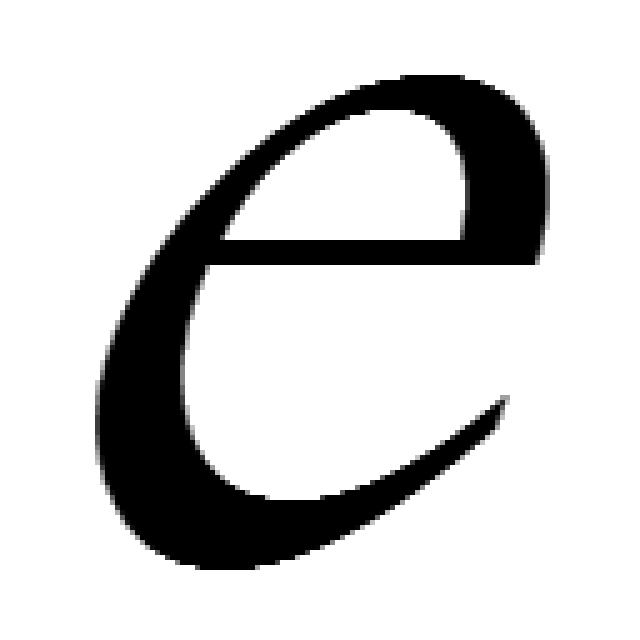E: (95, 75, 550, 570)
